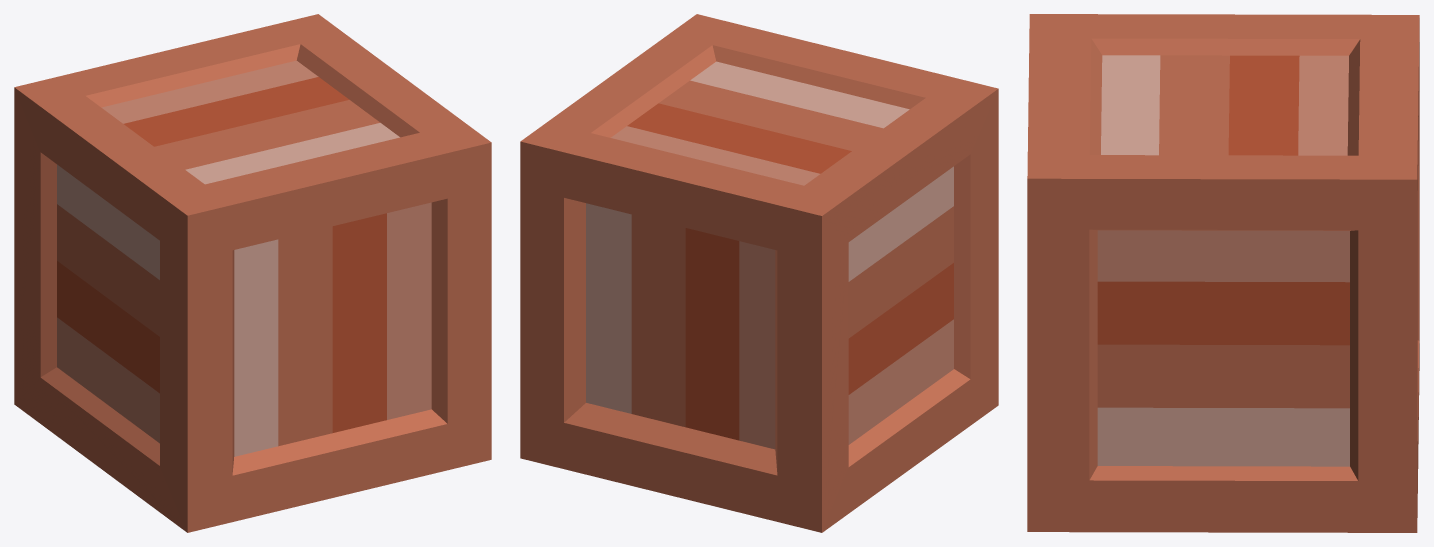
File: Ship_006.glb
3 renders of one model, left to right at view 1: azimuth 30°, elevation 25°; view 2: azimuth 150°, elevation 25°; view 3: azimuth 270°, elevation 25°, orthographic. The views are drawn at different scales.
Visible parts, largest first — view 1: Ship_006; view 2: Ship_006; view 3: Ship_006.
Part boxes in pixels (x1,y1,x2,y2): Ship_006: (14, 14, 491, 532); Ship_006: (520, 14, 998, 532); Ship_006: (1027, 14, 1419, 532).
Bounding box in the file's own units: 0.6067 × 0.6033 × 0.6067.
1 material, 1 textured.
